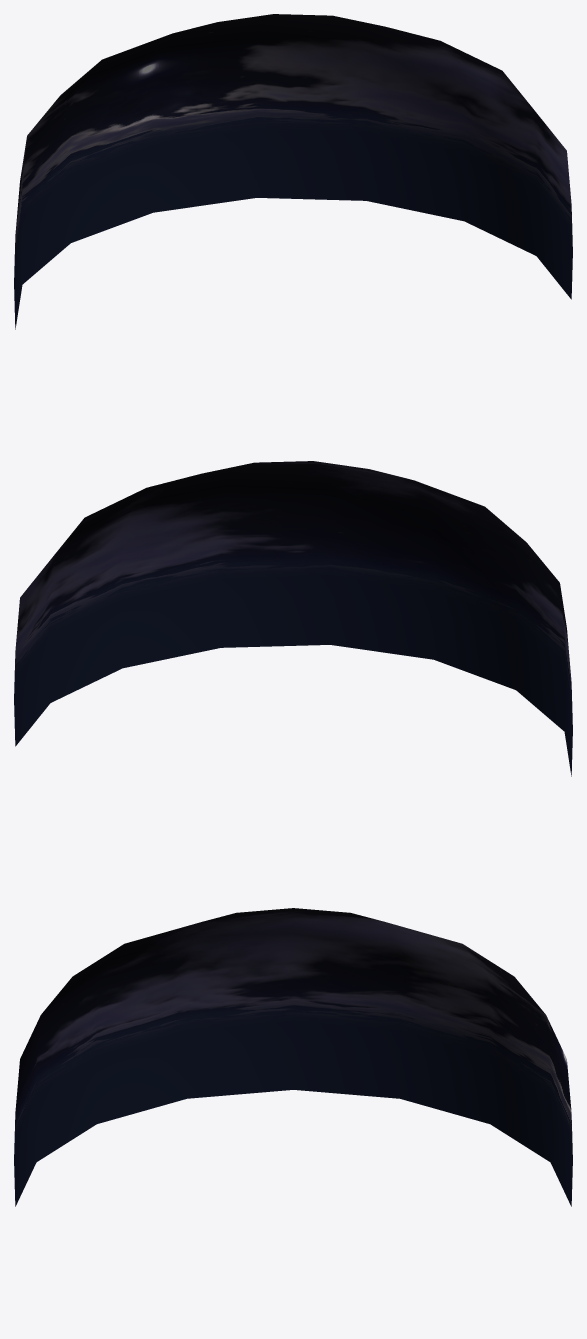
The model's file is AircraftCarrier_Sky.glb.
3 renders of one model, top to bottom at view 1: azimuth 30°, elevation 25°; view 2: azimuth 150°, elevation 25°; view 3: azimuth 270°, elevation 25°, orthographic.
Parts seen in each view (by area): view 1: Sky; view 2: Sky; view 3: Sky.
Part boxes in pixels (x1,y1,x2,y2): Sky: (14,14,572,329); Sky: (14,461,572,776); Sky: (14,908,572,1206).
Bounding box in the file's own units: 211 × 98.17 × 211.
1 material, 1 textured.
